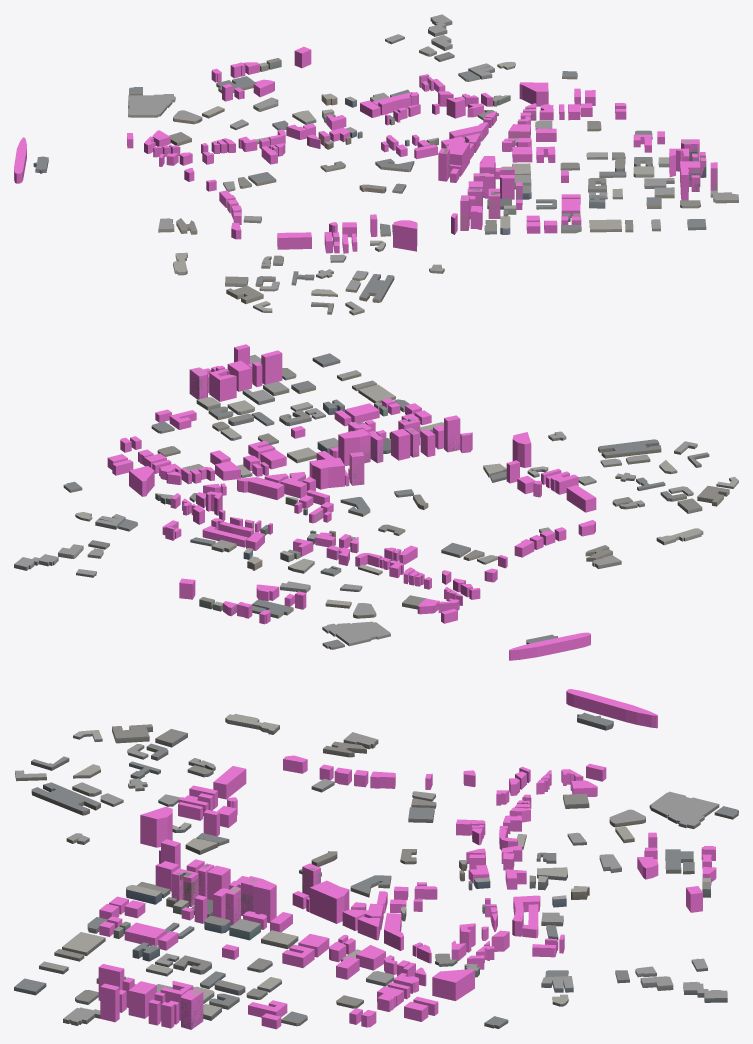
The model's file is bld_13_12.fbx.
The picture shows the model from 3 angles, top to bottom: view 1: azimuth 30°, elevation 25°; view 2: azimuth 150°, elevation 25°; view 3: azimuth 270°, elevation 25°; orthographic projection. The views are drawn at different scales.
Visible parts, largest first — view 1: bld_13_12_COL, bld_13_12_LOD0; view 2: bld_13_12_COL, bld_13_12_LOD0; view 3: bld_13_12_COL, bld_13_12_LOD0.
Boxes of the visible parts, x1,y1,x2,y2 form: bld_13_12_COL: (14, 46, 717, 253); bld_13_12_LOD0: (33, 14, 738, 315); bld_13_12_COL: (107, 344, 596, 660); bld_13_12_LOD0: (14, 353, 738, 649); bld_13_12_COL: (98, 689, 716, 1029); bld_13_12_LOD0: (14, 712, 738, 1029).
Size of what is drawn, in the model's own units: 2085 by 112 by 1945.
